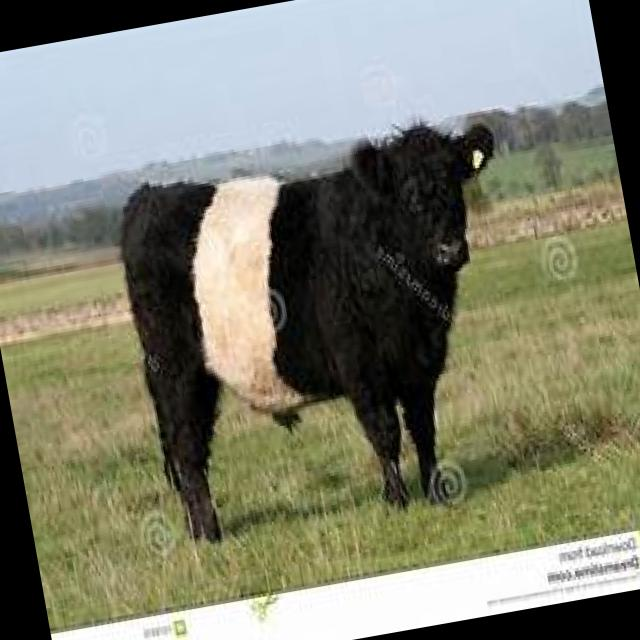cow: (106, 103, 556, 550)
